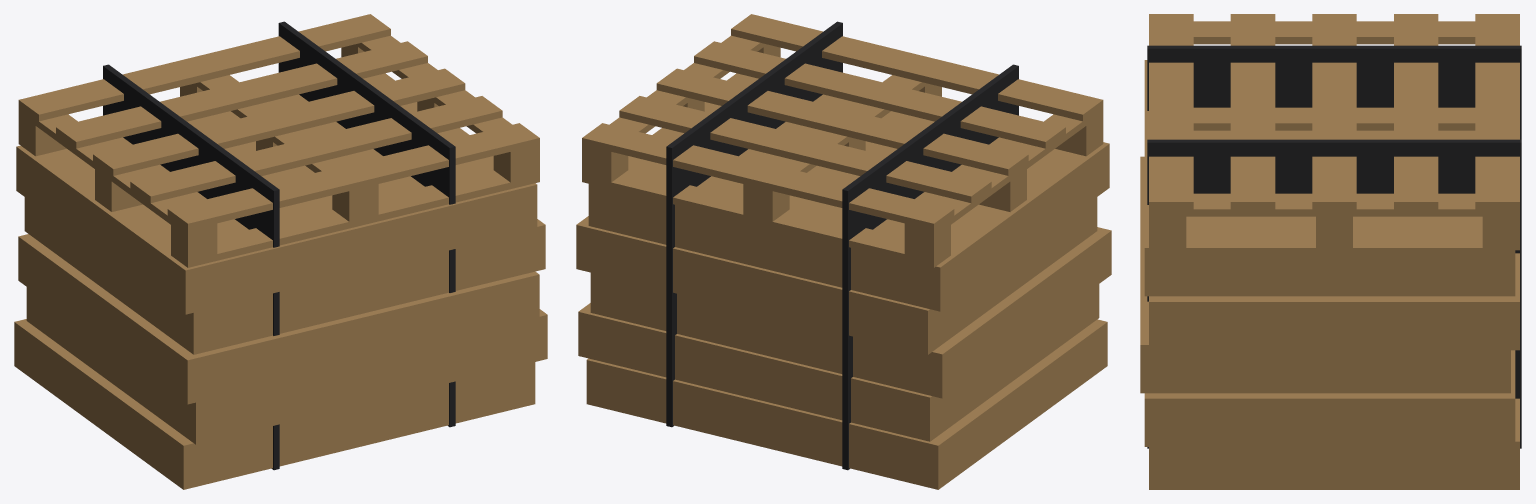
File: PALLET_STACK.glb
The picture shows the model from 3 angles, left to right: view 1: azimuth 30°, elevation 25°; view 2: azimuth 150°, elevation 25°; view 3: azimuth 270°, elevation 25°; orthographic projection. The views are drawn at different scales.
Visible parts, largest first — view 1: timber_0, tread_1; view 2: timber_0, tread_1; view 3: timber_0, tread_1.
Part boxes in pixels (x1,y1,x2,y2): timber_0: (14,14,547,489); tread_1: (103,21,455,470); timber_0: (576,14,1111,489); tread_1: (666,21,1018,470); timber_0: (1140,14,1519,489); tread_1: (1147,45,1521,448).
Bounding box in the file's own units: 1.24 × 0.91 × 1.03.
